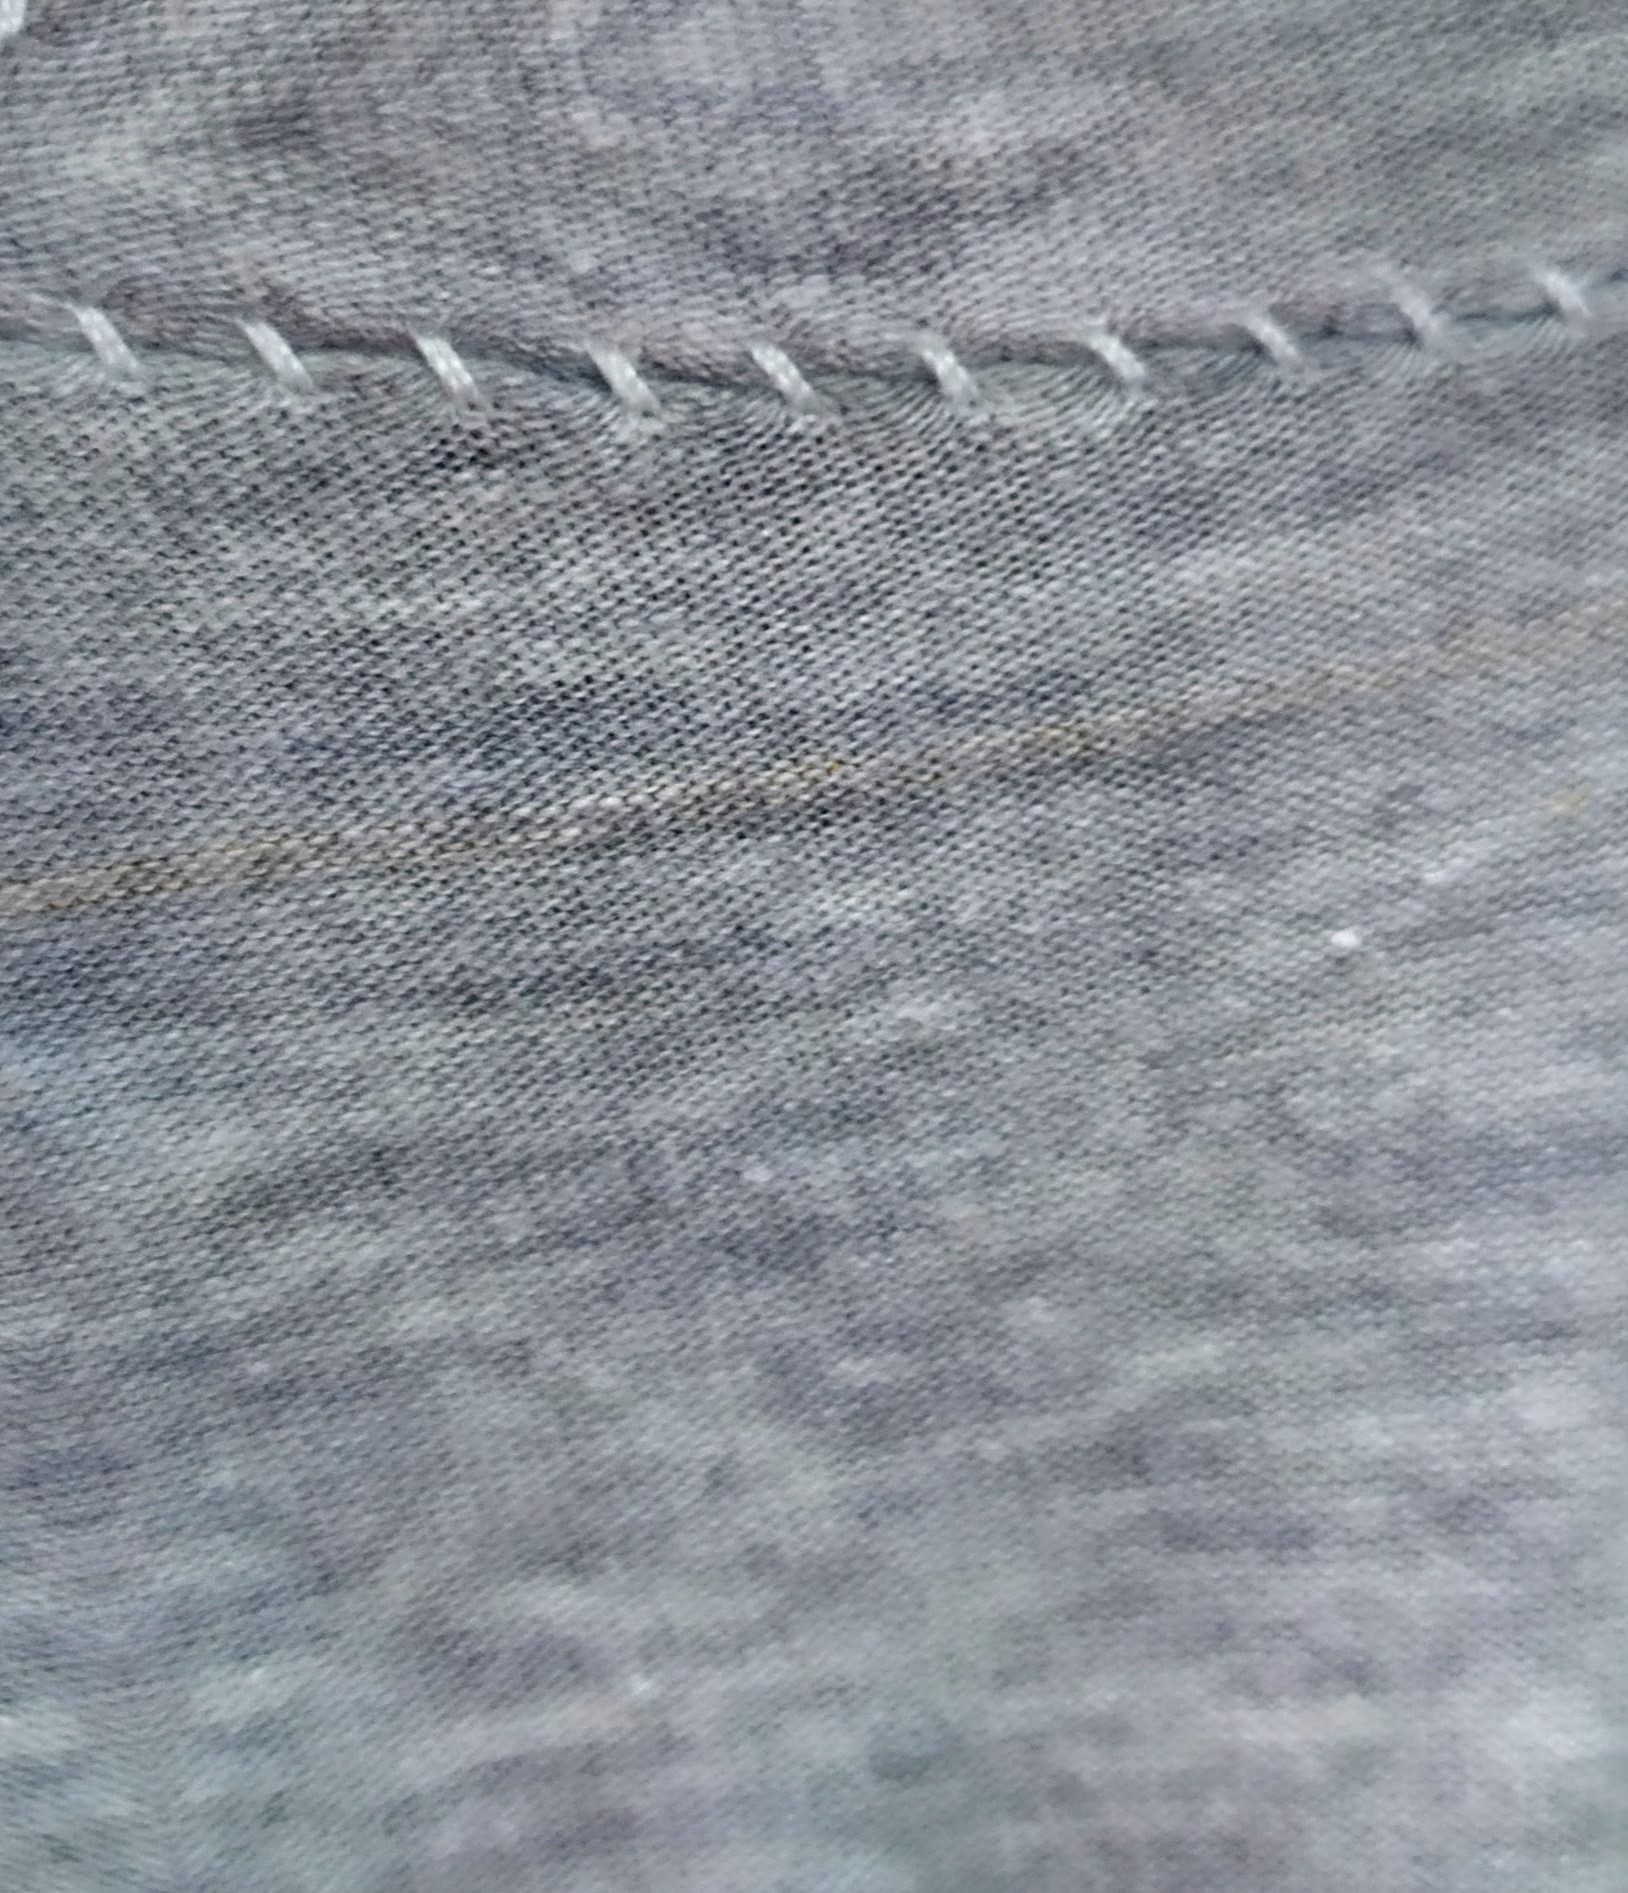slub: (2, 238, 1620, 470)
